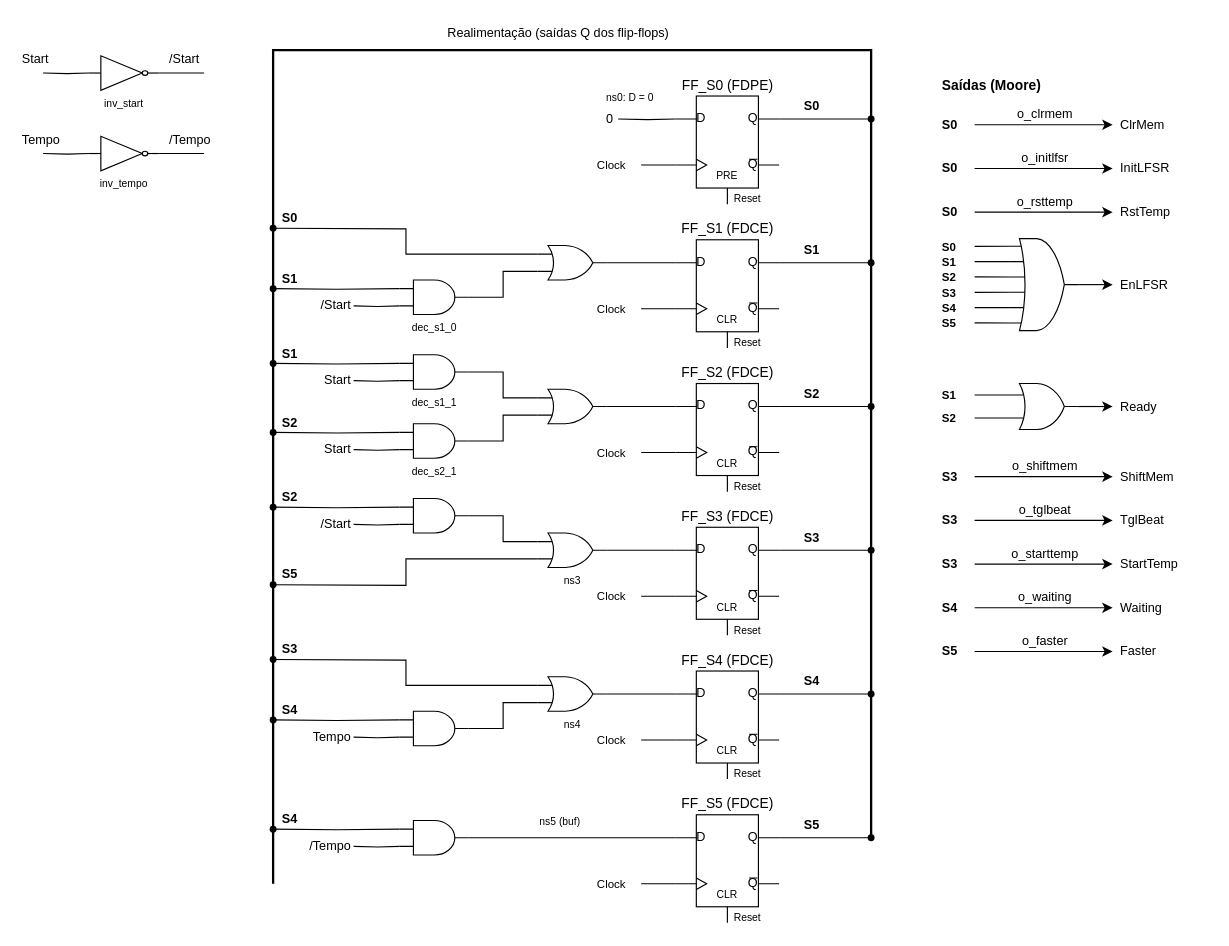
This 1229x946 diagram has some shape labels left out. The shapes that lost their labels are listed below. From the top down, each one's centre as x and y in pixels, then its label:
[571,262]: ns1
[1043,284]: o_enlfsr
[571,406]: ns2
[1043,406]: o_ready
[433,515]: dec_s2_0
[433,728]: dec_s4_1
[433,837]: dec_s4_0
